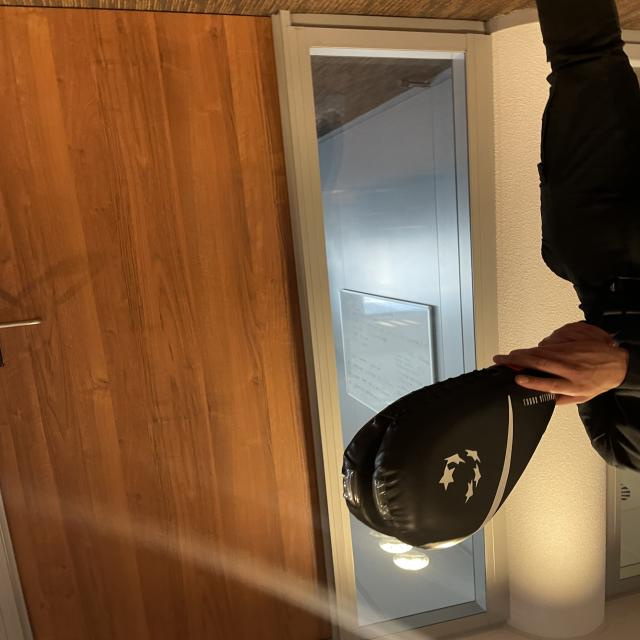paddle: (351, 374, 547, 542)
